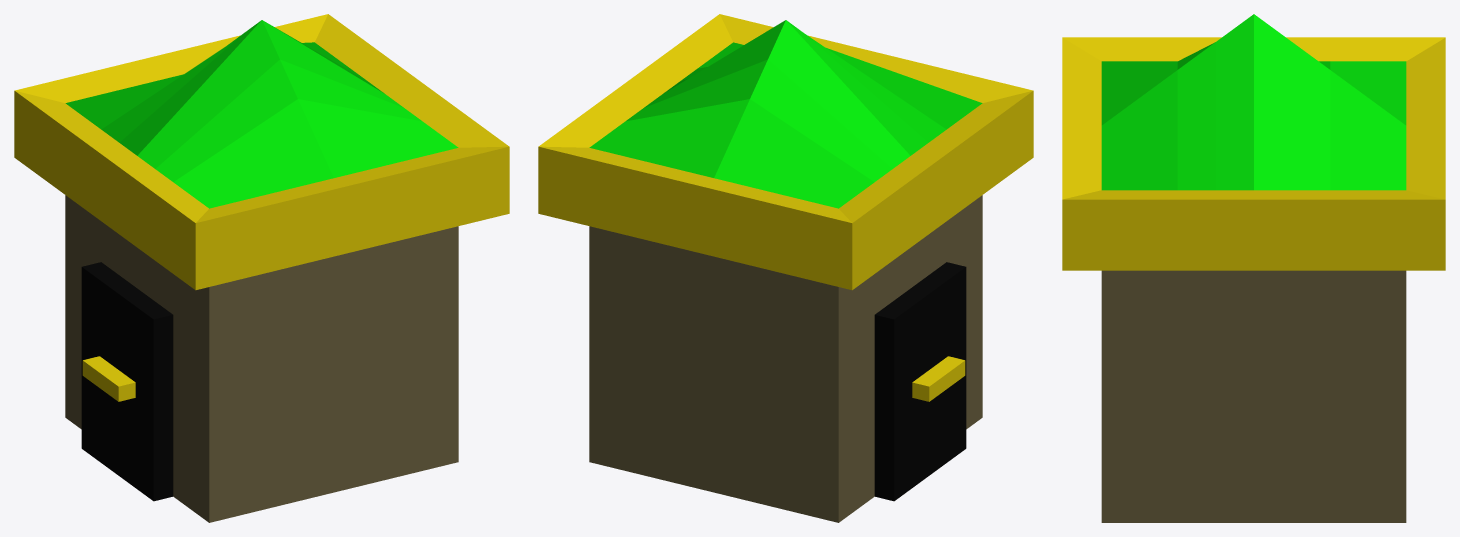
The model's file is hut2.glb.
3 views of the same model, side by side, from view 1: azimuth 30°, elevation 25°; view 2: azimuth 150°, elevation 25°; view 3: azimuth 270°, elevation 25° (orthographic). The views are drawn at different scales.
Visible parts, largest first — view 1: Cube; view 2: Cube; view 3: Cube.
Boxes of the visible parts, left/top/right/bottom form: Cube: left=14, top=14, right=509, bottom=522; Cube: left=538, top=14, right=1033, bottom=522; Cube: left=1062, top=14, right=1445, bottom=522.
Size of the model in its own units: 9.57 by 12.06 by 9.43.
